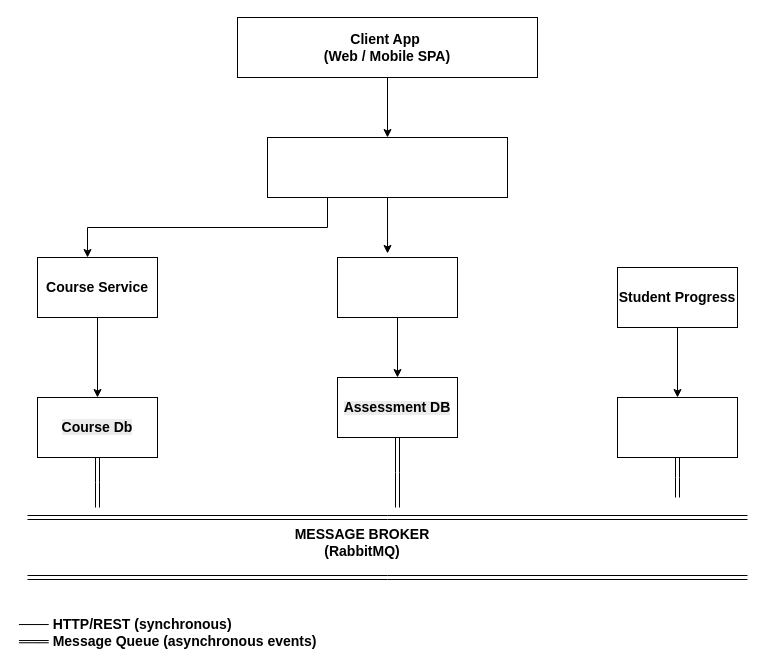
The diagram is 765 pixels wide and 667 high, and some of its shapes have lost their labels. The shapes that lost their labels are listed below. From the top down, each one's box as (x1, y1, x2, y2) in pixels, then its label:
(266, 136, 508, 198): API Gateway
(336, 256, 458, 318): Assessment Service
(616, 396, 738, 458): Progress DB
